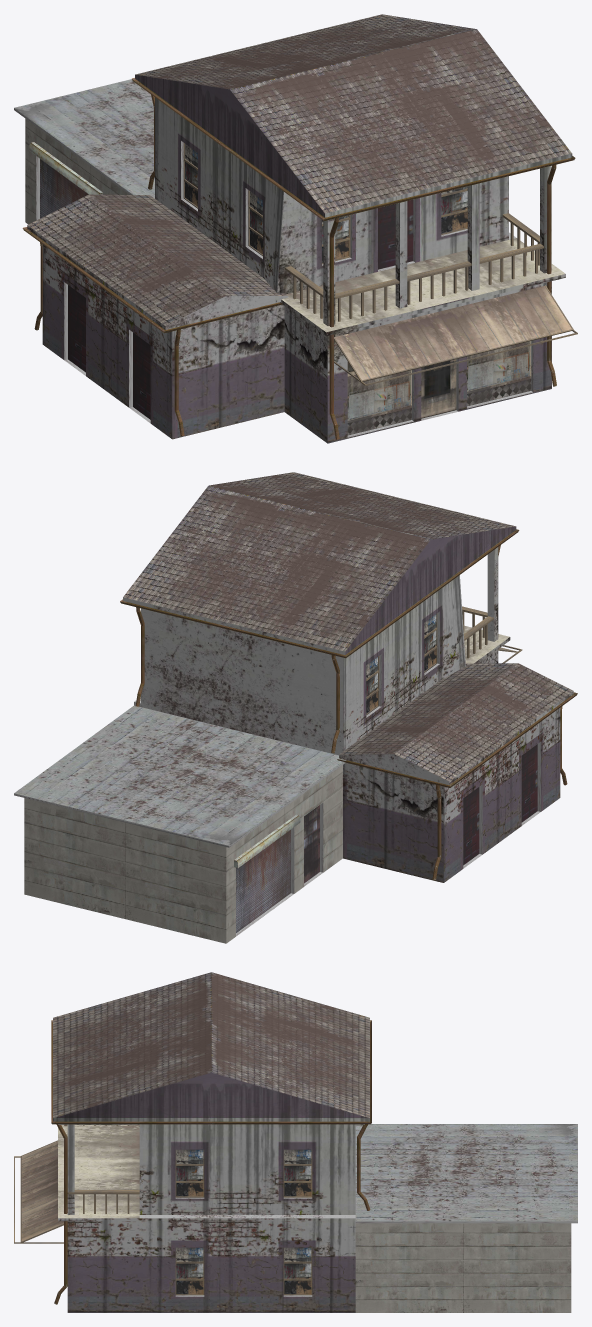
The model's file is build1.dae.
3 views of the same model, one above another, from view 1: azimuth 30°, elevation 25°; view 2: azimuth 150°, elevation 25°; view 3: azimuth 270°, elevation 25° (orthographic). The views are drawn at different scales.
Visible parts, largest first — view 1: LPBldX13r; view 2: LPBldX13r; view 3: LPBldX13r.
Part boxes in pixels (<box>): LPBldX13r: <box>14,14,577,443</box>; LPBldX13r: <box>14,472,577,943</box>; LPBldX13r: <box>14,972,577,1312</box>.
Bounding box in the file's own units: 10.32 × 16.62 × 7.96.
1 material, 1 textured.
